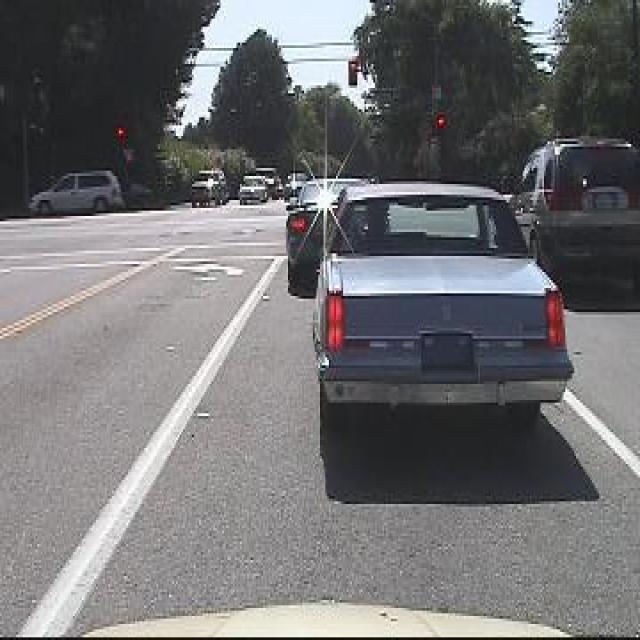car_back: (303, 169, 575, 468), (513, 133, 640, 324)
